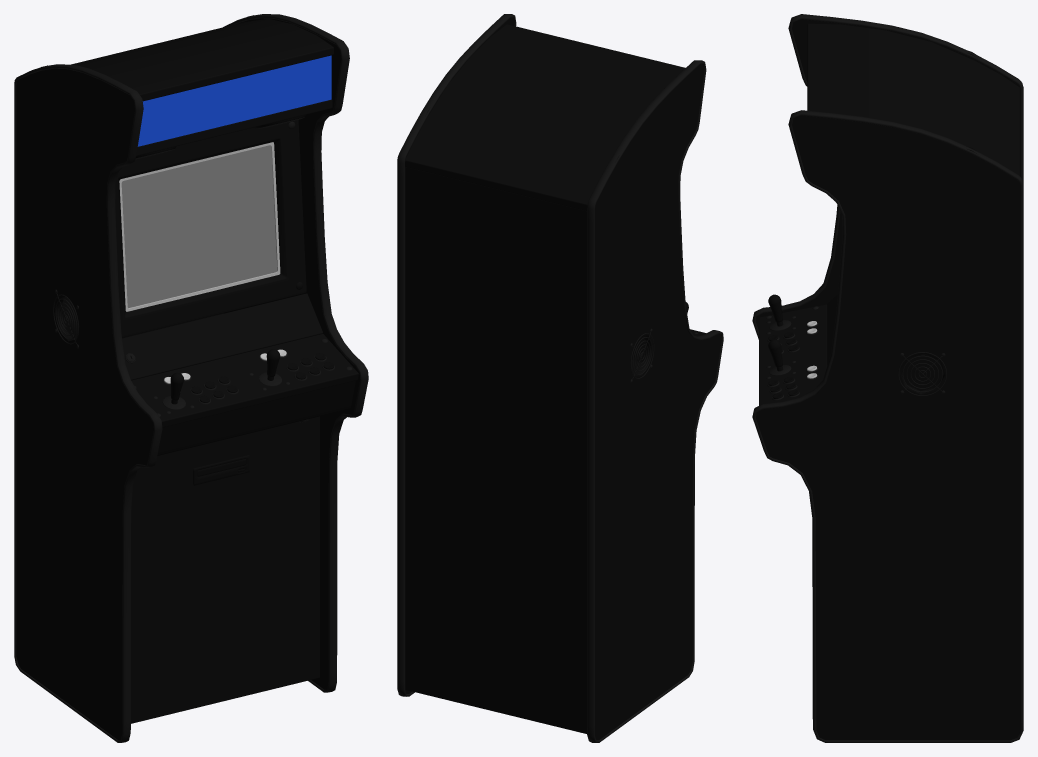
The model's file is arcade.fbx.
3 renders of one model, left to right at view 1: azimuth 30°, elevation 25°; view 2: azimuth 150°, elevation 25°; view 3: azimuth 270°, elevation 25°, orthographic. The views are drawn at different scales.
Parts seen in each view (by area): view 1: Arcade_machine; view 2: Arcade_machine; view 3: Arcade_machine.
Part boxes in pixels (box(x1,y1,x2,y2)): Arcade_machine: box(14, 14, 368, 742); Arcade_machine: box(397, 14, 723, 742); Arcade_machine: box(752, 14, 1023, 742).
Size of the model in its own units: 56.32 by 165 by 64.37.
